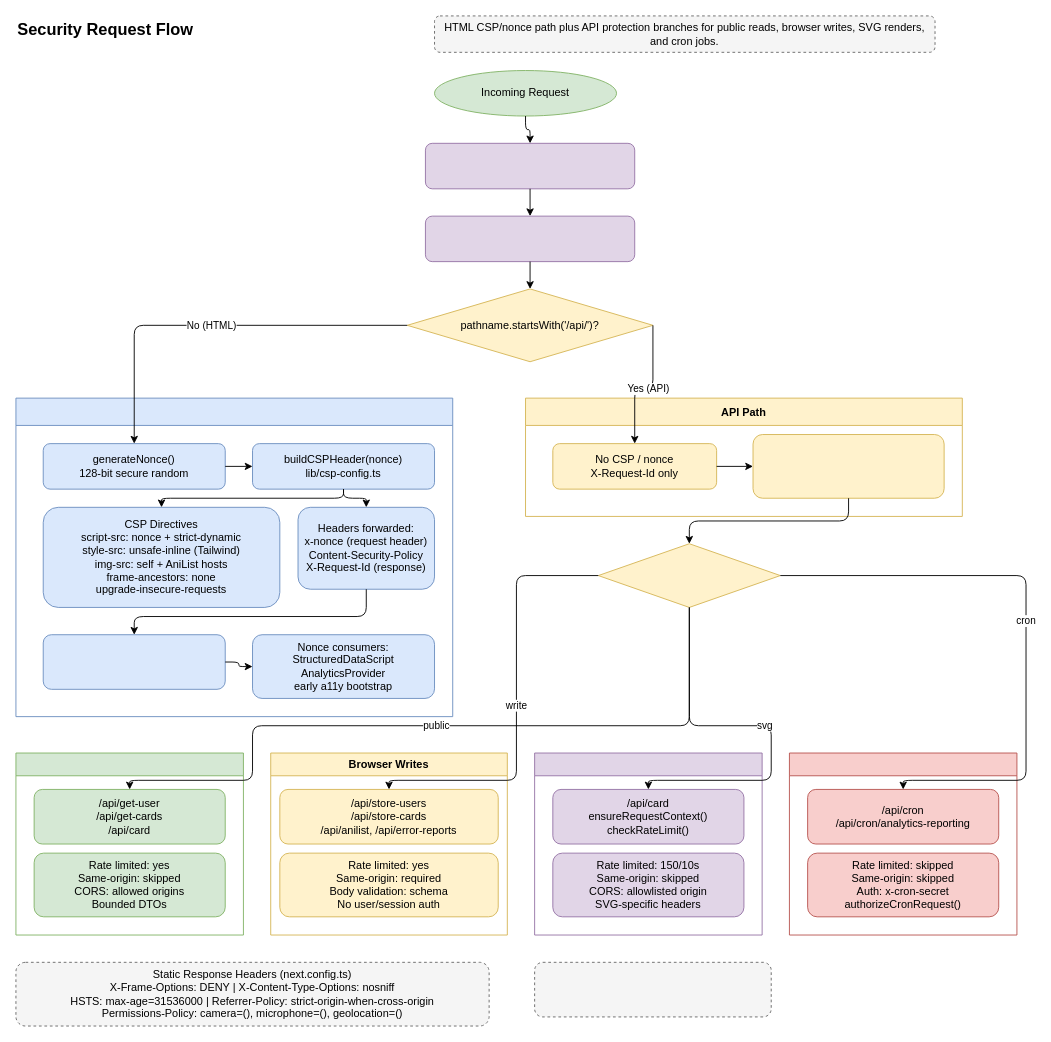
Image size: 1051x1042. Some labels were removed from this diagram. Each missing label, with the box of its shape:
app/layout.tsx getRequestNonce() passes nonce to scripts: (42, 634, 225, 689)
app/middleware.ts X-Request-Id generation: (425, 215, 635, 262)
Cron / Operator: (789, 752, 1017, 935)
Development mode: unsafe-eval allowed in script-src for Turbopack debugging: (534, 961, 771, 1017)
HTML Path (Non-API Routes): (15, 397, 453, 717)
initializeApiRequest() context + logging + rate limit + same-origin: (752, 434, 944, 498)
proxy.ts Next.js 16 request interception: (425, 142, 635, 189)
Public Reads: (15, 752, 243, 935)
Route type?: (597, 543, 780, 607)
SVG Render: (534, 752, 762, 935)
